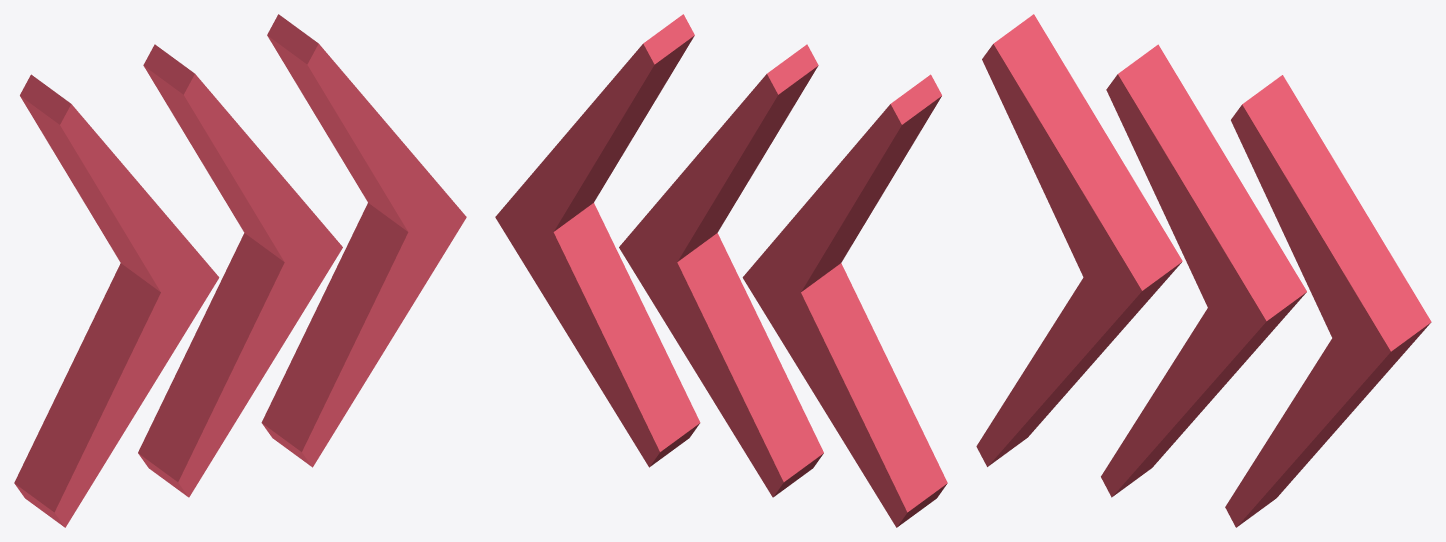
Rendered from red_arrow_chevrons_wayfinding.glb.
3 views of the same model, side by side, from view 1: azimuth 30°, elevation 25°; view 2: azimuth 150°, elevation 25°; view 3: azimuth 330°, elevation 25° (orthographic).
Parts seen in each view (by area): view 1: Object_2; view 2: Object_2; view 3: Object_2.
Part boxes in pixels (x1,y1,x2,y2): Object_2: [14, 14, 466, 527]; Object_2: [495, 14, 947, 527]; Object_2: [976, 14, 1431, 527].
Bounding box in the file's own units: 201 × 197 × 34.06.
